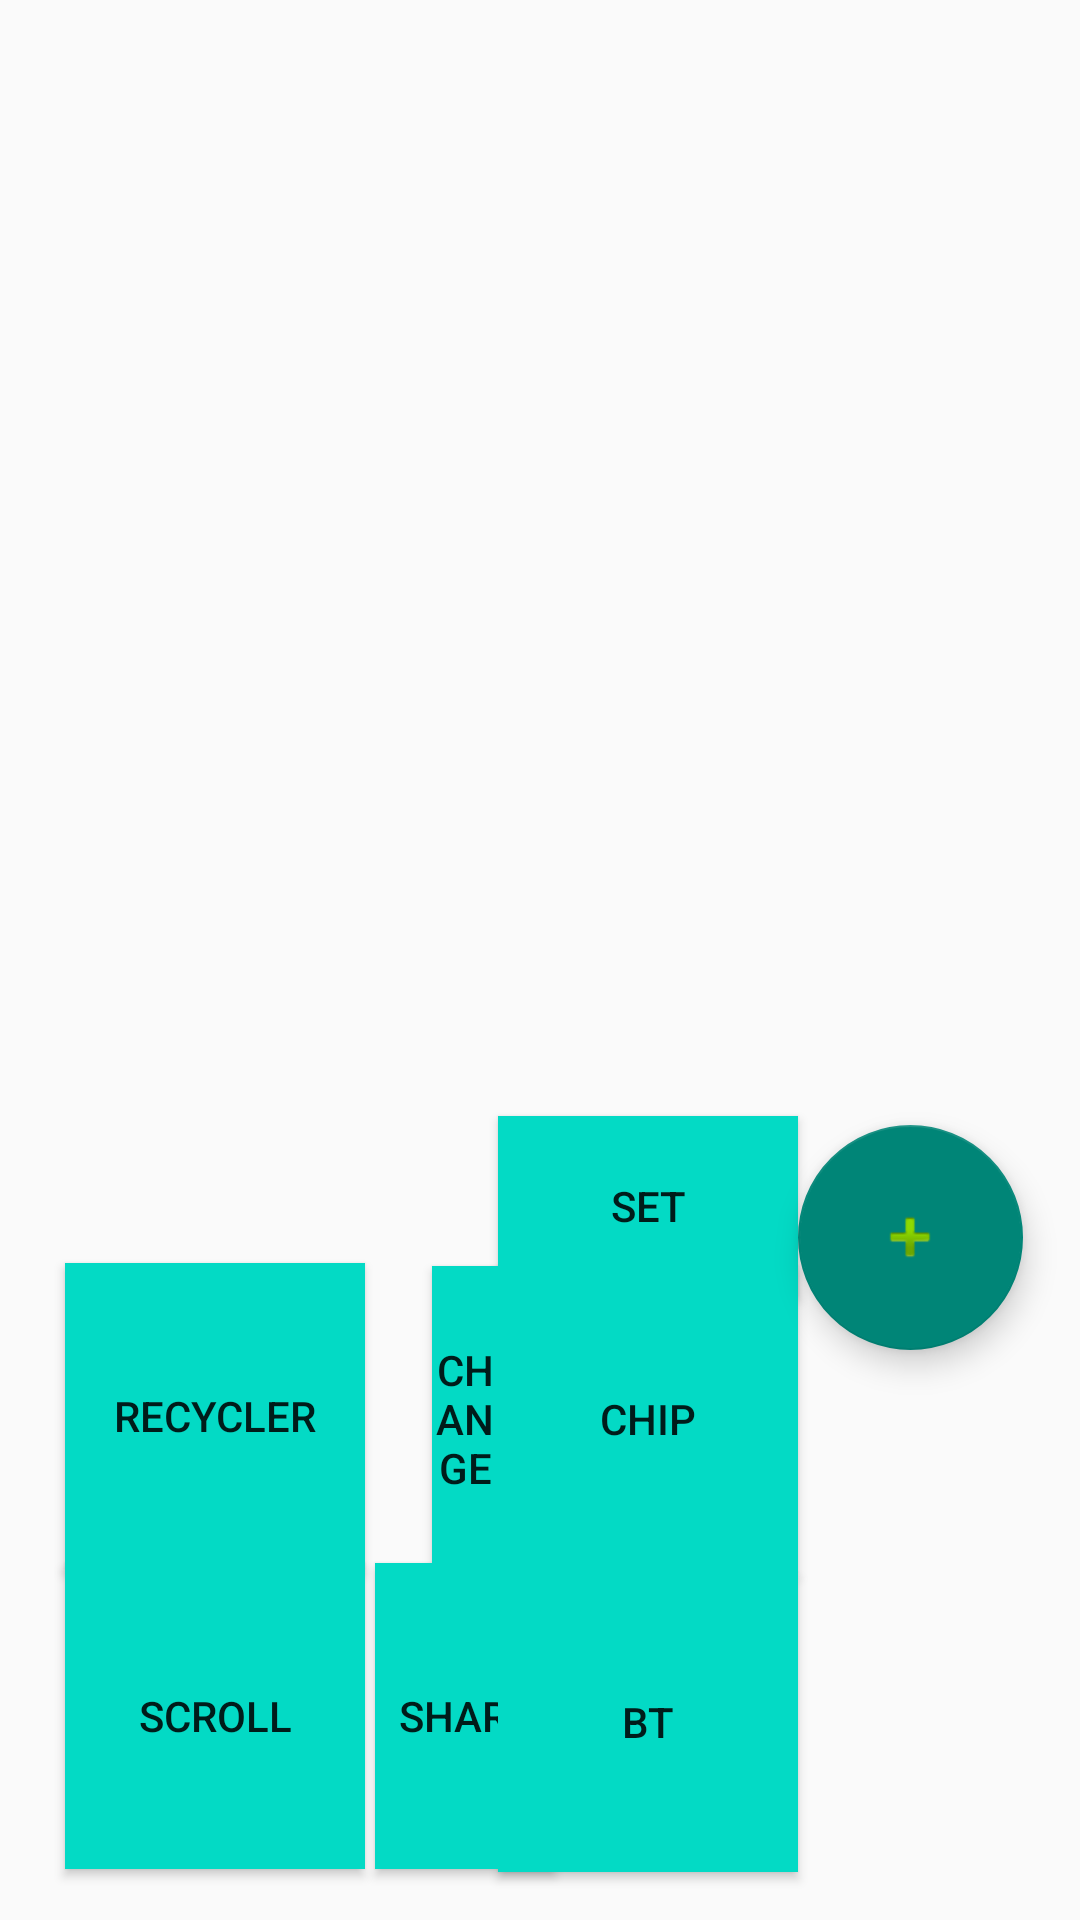

Named icons in this screenshot (1080×1920) and their centers, point (x, y):
add: point (910, 1237)
